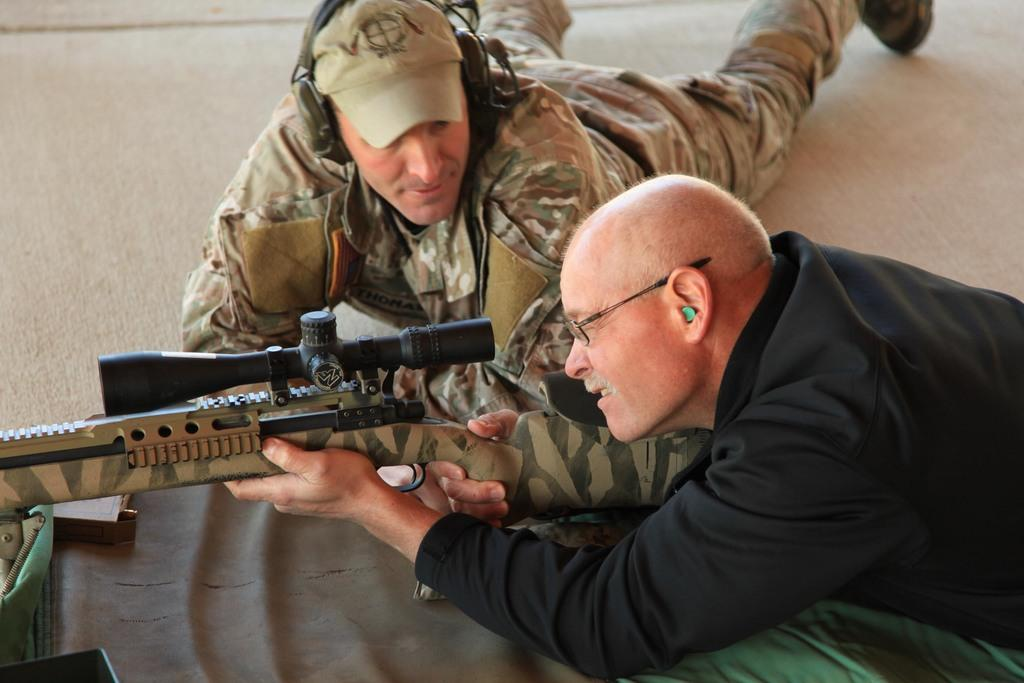Shotgun: (0, 308, 716, 604)
